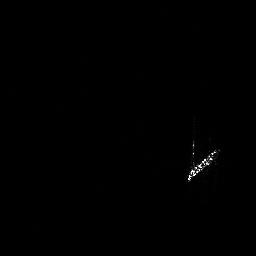ship: (184, 145, 223, 186)
